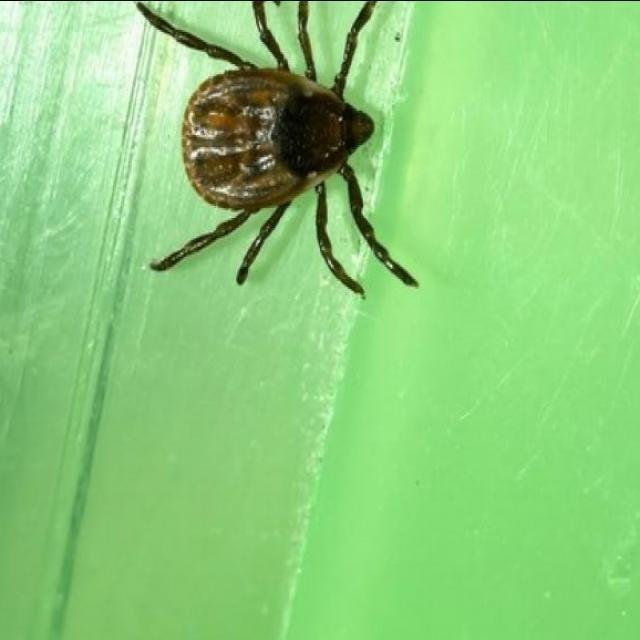Rhipicephalus Sanguineus-F: (139, 0, 420, 296)
